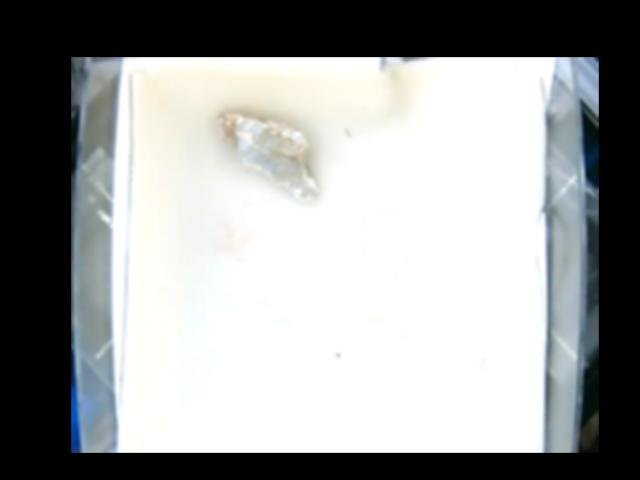Brisk: (213, 112, 320, 199)
